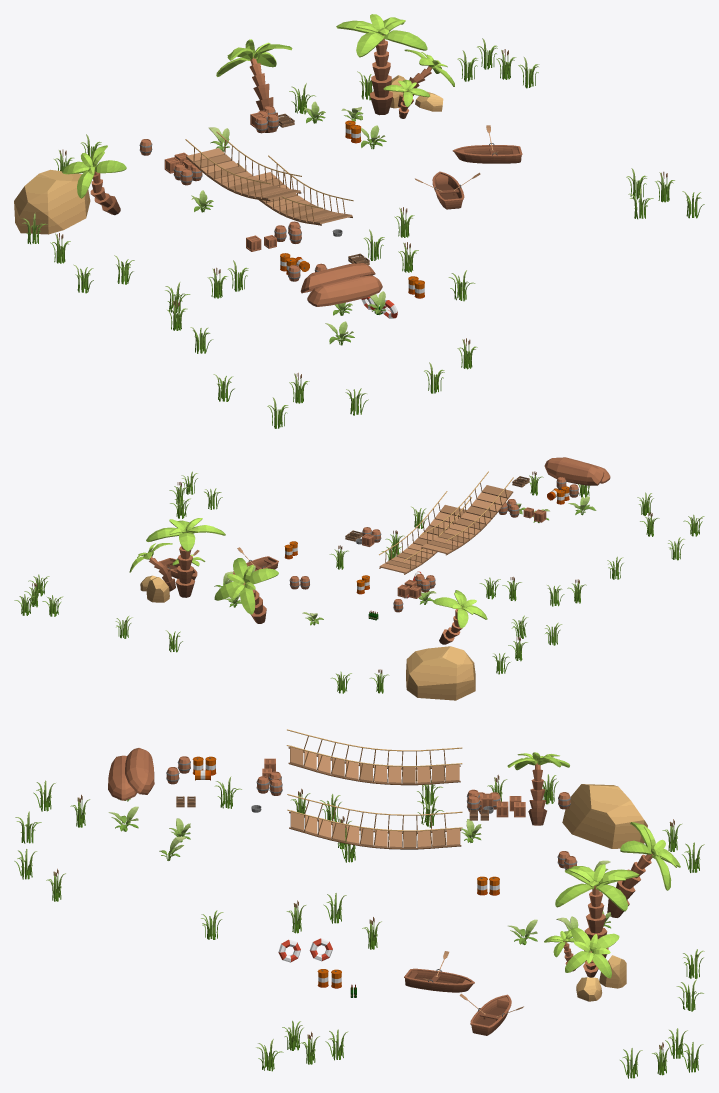
File: stilt_village.glb
The picture shows the model from 3 angles, top to bottom: view 1: azimuth 30°, elevation 25°; view 2: azimuth 150°, elevation 25°; view 3: azimuth 270°, elevation 25°; orthographic projection. The views are drawn at different scales.
Parts seen in each view (by area): view 1: desert stone small 2 (1)_116, palm tree large 4_76, suspension bridge (1)_63, suspension bridge_39, palm tree bent 4 (1)_117, palm tree tilted 4_52, boat_60, boat 3_4, boat (1)_45, boat 3 (1)_66, palm tree bent 4_68, palm tree small 4_40; view 2: desert stone small 2 (1)_116, suspension bridge (1)_63, suspension bridge_39, palm tree tilted 4_52, palm tree large 4_76, boat (1)_45, palm tree bent 4 (1)_117, palm tree bent 4_68, desert stone small 2_17; view 3: suspension bridge_39, suspension bridge (1)_63, desert stone small 2 (1)_116, palm tree large 4_76, palm tree tilted 4_52, palm tree bent 4_68, palm tree bent 4 (1)_117, boat 3 (1)_66, boat 3_4, boat (1)_45, boat_60, desert stone small 2_17 (+1 smaller).
Part boxes in pixels (x1,y1,x2,y2): desert stone small 2 (1)_116: [14, 169, 90, 234]; palm tree large 4_76: [336, 14, 427, 115]; suspension bridge (1)_63: [185, 131, 301, 201]; suspension bridge_39: [237, 155, 353, 225]; palm tree bent 4 (1)_117: [62, 145, 126, 215]; palm tree tilted 4_52: [216, 39, 292, 132]; boat_60: [307, 275, 382, 306]; boat 3_4: [452, 125, 522, 163]; boat (1)_45: [300, 263, 375, 293]; boat 3 (1)_66: [415, 171, 480, 209]; palm tree bent 4_68: [398, 49, 454, 107]; palm tree small 4_40: [383, 79, 430, 118]; desert stone small 2 (1)_116: [406, 646, 475, 700]; suspension bridge (1)_63: [420, 471, 513, 555]; suspension bridge_39: [379, 491, 471, 574]; palm tree tilted 4_52: [214, 558, 278, 623]; palm tree large 4_76: [146, 518, 225, 597]; boat (1)_45: [544, 457, 604, 485]; palm tree bent 4 (1)_117: [433, 590, 487, 644]; palm tree bent 4_68: [129, 543, 175, 591]; desert stone small 2_17: [146, 577, 169, 602]; suspension bridge_39: [287, 794, 462, 849]; suspension bridge (1)_63: [286, 729, 462, 785]; desert stone small 2 (1)_116: [562, 784, 647, 848]; palm tree large 4_76: [555, 864, 639, 957]; palm tree tilted 4_52: [607, 822, 680, 917]; palm tree bent 4_68: [565, 927, 619, 978]; palm tree bent 4 (1)_117: [507, 752, 569, 825]; boat 3 (1)_66: [404, 951, 474, 992]; boat 3_4: [459, 993, 523, 1035]; boat (1)_45: [125, 748, 154, 794]; boat_60: [108, 755, 136, 800]; desert stone small 2_17: [599, 955, 626, 988].
Bounding box in the file's own units: 19.54 × 6.15 × 19.83.
Materials: 1 (1 with a texture image).
